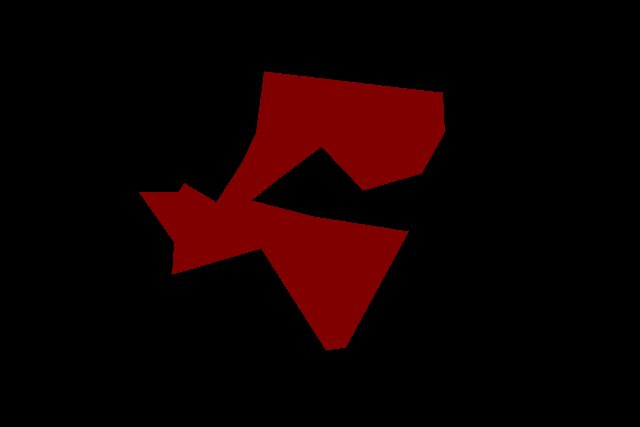fire: (139, 71, 444, 350)
